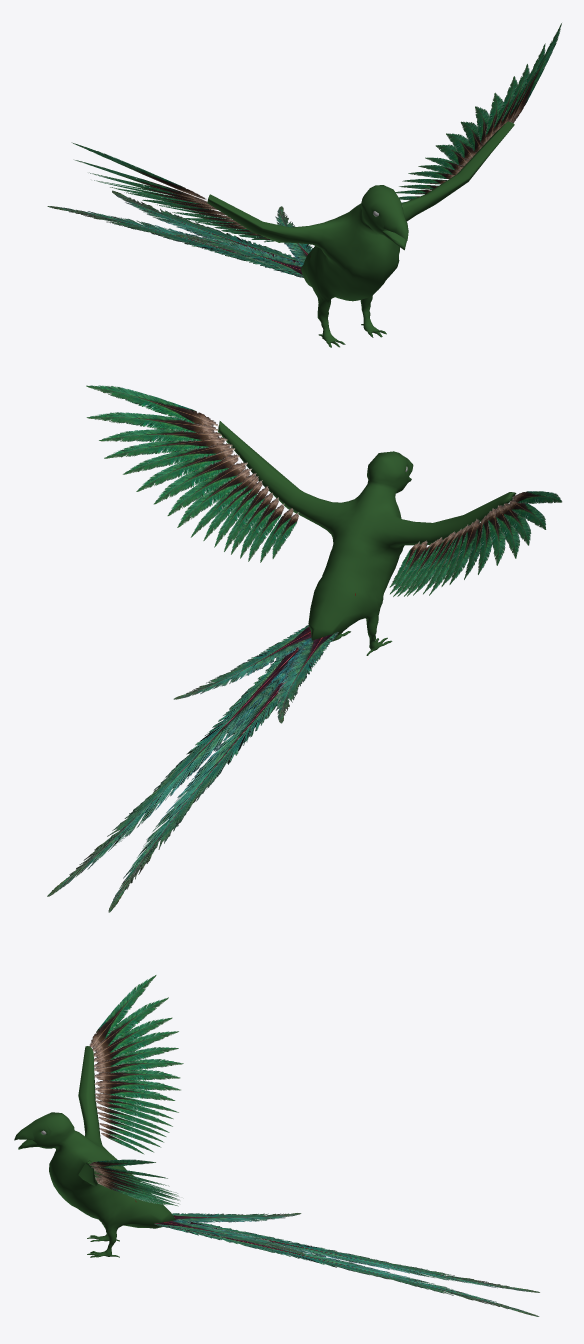
The model's file is Full_Body_Quetzal.fbx.
3 renders of one model, top to bottom at view 1: azimuth 30°, elevation 25°; view 2: azimuth 150°, elevation 25°; view 3: azimuth 270°, elevation 25°, orthographic. The views are drawn at different scales.
Parts seen in each view (by area): view 1: polySurface85, pPlane19, pPlane18, pPlane55 (×2), pPlane17, pPlane16, pPlane54, pPlane48; view 2: polySurface85, pPlane18, pPlane19, pPlane16, pPlane17, pPlane55, pPlane54, pPlane53, pPlane52, pPlane49, pPlane51, pPlane50 (+2 smaller); view 3: polySurface85, pPlane18, pPlane19, pPlane55, pPlane16, pPlane17, pPlane54, pPlane53, pPlane49, pPlane52, pPlane50, pPlane51 (+2 smaller).
Part boxes in pixels (x1,y1,x2,y2): polySurface85: (207, 121, 514, 347); pPlane19: (47, 206, 303, 277); pPlane18: (112, 190, 300, 262); pPlane55 (×2): (71, 23, 561, 199); pPlane17: (176, 234, 303, 277); pPlane16: (275, 206, 312, 265); pPlane54: (73, 159, 206, 202); pPlane48: (446, 133, 476, 160); polySurface85: (218, 421, 516, 655); pPlane18: (47, 647, 298, 896); pPlane19: (108, 632, 338, 912); pPlane16: (173, 625, 311, 699); pPlane17: (275, 632, 337, 723); pPlane55: (86, 385, 218, 426); pPlane54: (86, 412, 218, 432); pPlane53: (99, 429, 221, 442); pPlane52: (104, 437, 227, 458); pPlane49: (153, 454, 239, 504); pPlane51: (122, 443, 232, 474); pPlane50: (136, 447, 234, 491); polySurface85: (14, 1046, 175, 1257); pPlane18: (154, 1223, 539, 1316); pPlane19: (188, 1221, 539, 1292); pPlane55: (89, 975, 156, 1047); pPlane16: (155, 1220, 305, 1254); pPlane17: (172, 1213, 301, 1222); pPlane54: (92, 997, 168, 1051); pPlane53: (93, 1017, 172, 1057); pPlane49: (94, 1070, 180, 1081); pPlane52: (94, 1031, 178, 1062); pPlane50: (94, 1059, 183, 1073); pPlane51: (94, 1047, 178, 1068).
Bounding box in the file's own units: 13.3 × 7.88 × 16.2.
Materials: 6 (2 with a texture image).
